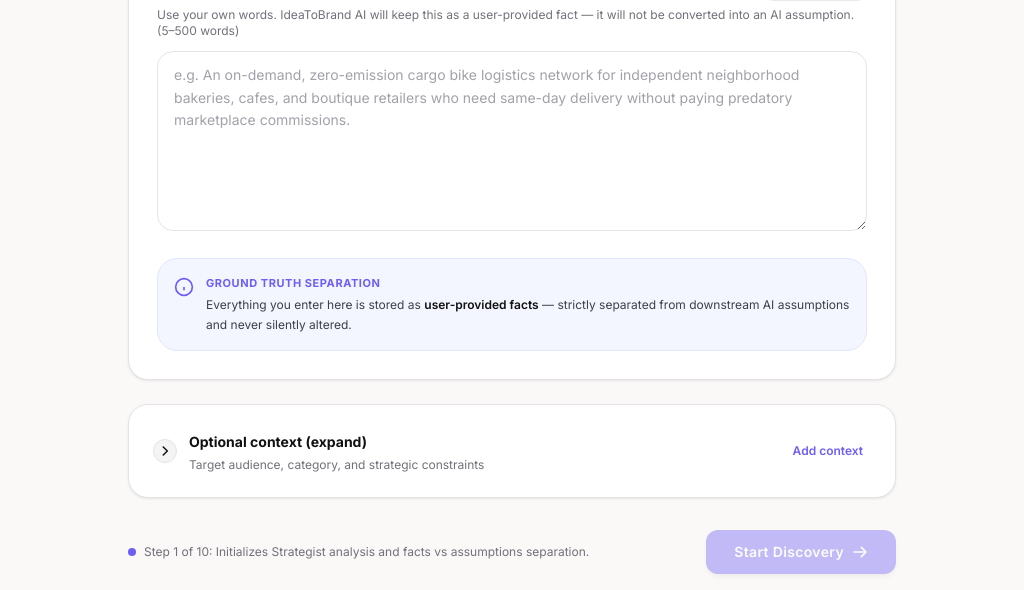
IdeaInput form › optional context section can be expanded
The image size is (1024, 590).
(page scrolled)
Click the button "Optional context" at (246, 442), box [149, 425, 867, 477]
(page scrolled)
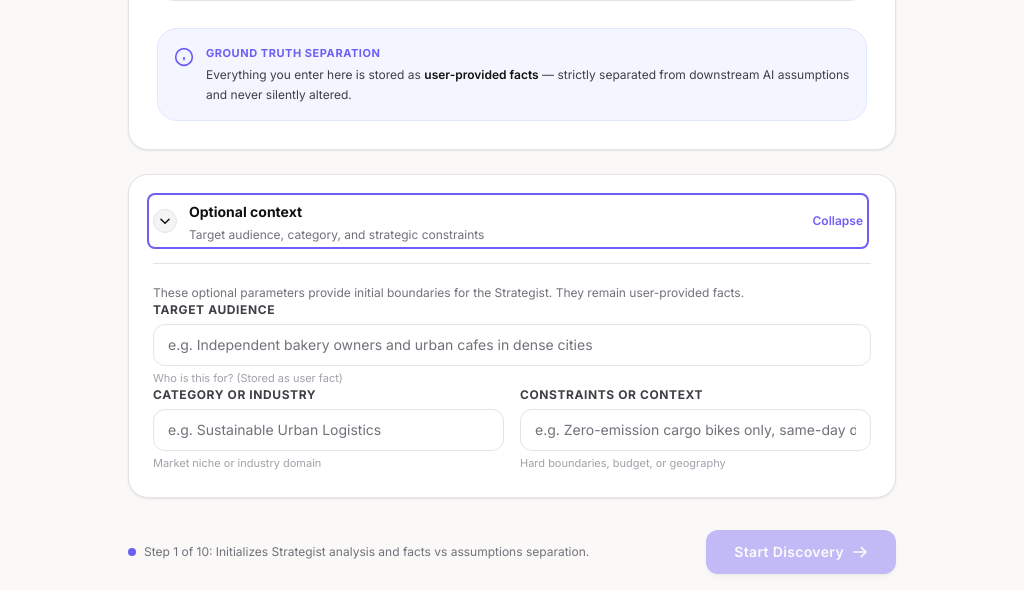
Check: the field labelled "Target audience" is shown, box [153, 324, 871, 366]
